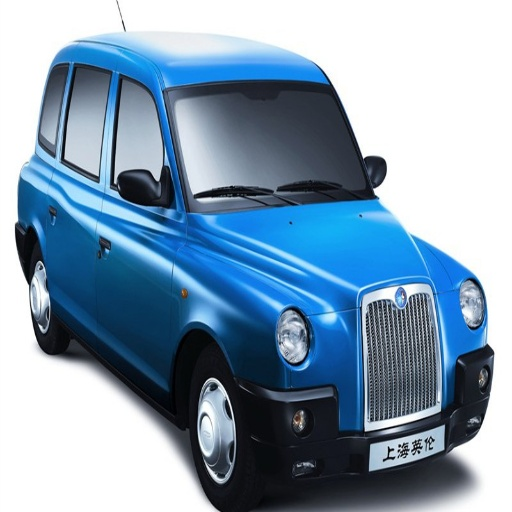front_bumper: (237, 281, 489, 464)
front_right_door: (97, 68, 187, 383)
front_right_light: (279, 309, 309, 362)
hood: (201, 198, 458, 314)
